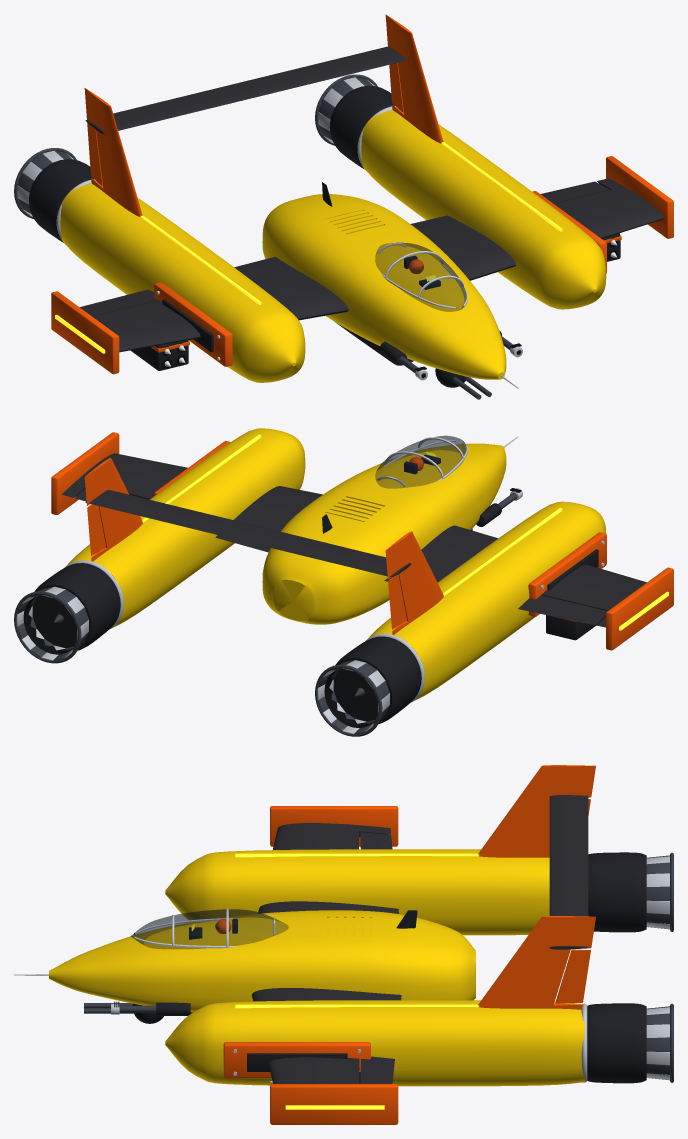
File: bastion.glb
The picture shows the model from 3 angles, top to bottom: view 1: azimuth 30°, elevation 25°; view 2: azimuth 150°, elevation 25°; view 3: azimuth 270°, elevation 25°; orthographic projection. The views are drawn at different scales.
Visible parts, largest first — view 1: SHIP; view 2: SHIP; view 3: SHIP.
Part boxes in pixels (box(x1,y1,x2,y2)): SHIP: box(14, 14, 673, 399); SHIP: box(14, 428, 673, 736); SHIP: box(14, 765, 673, 1124).
Bounding box in the file's own units: 17.3 × 5.15 × 17.01.
